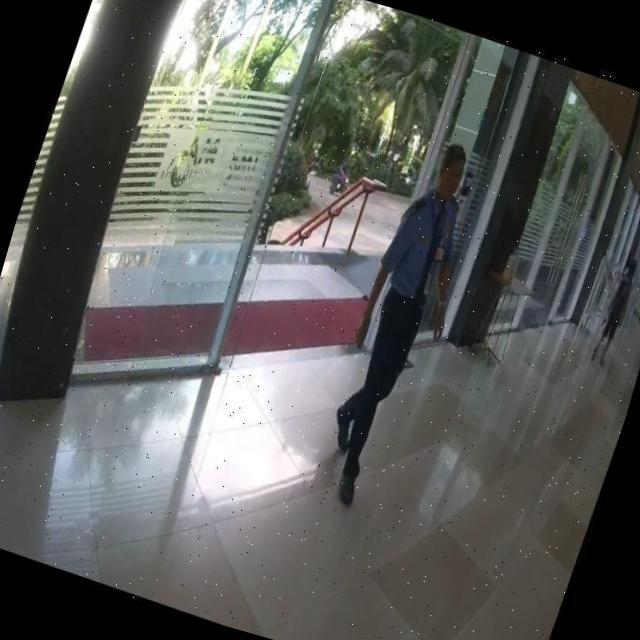person: (300, 128, 493, 520), (589, 253, 640, 372)
